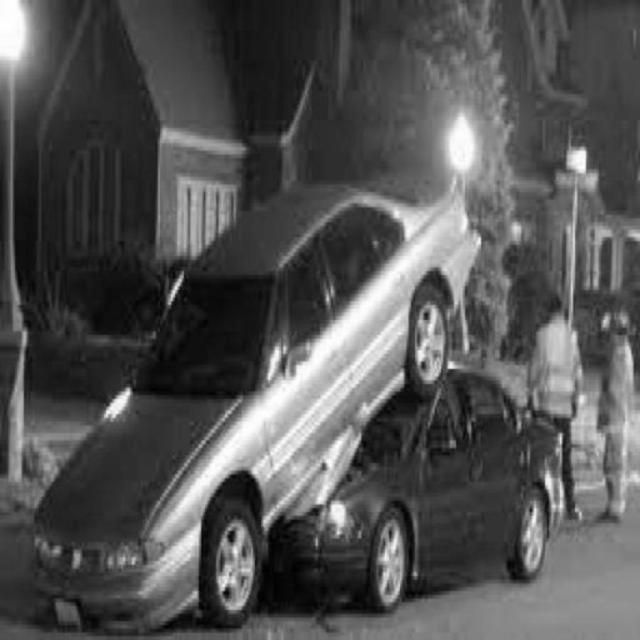accident: (35, 177, 569, 608)
person: (534, 292, 585, 520), (596, 315, 637, 526)
